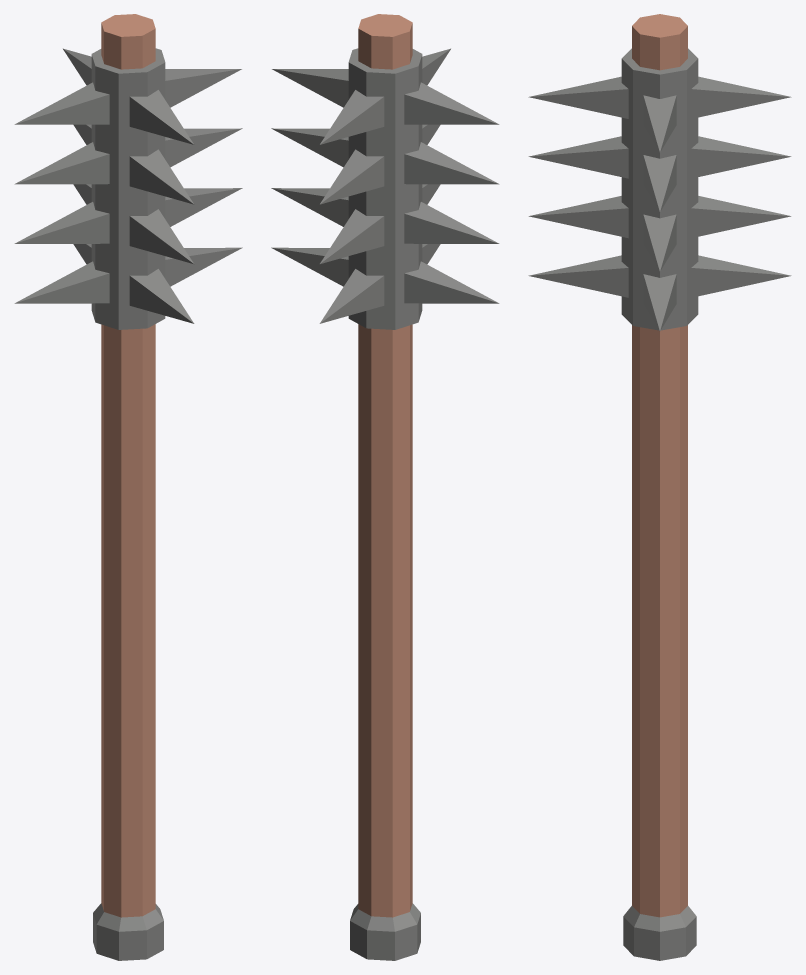
The model's file is ankers-low-poly-medieval-weapons--spiked-club.glb.
3 views of the same model, side by side, from view 1: azimuth 30°, elevation 25°; view 2: azimuth 150°, elevation 25°; view 3: azimuth 270°, elevation 25° (orthographic).
Parts seen in each view (by area): view 1: Spiked Club; view 2: Spiked Club; view 3: Spiked Club.
Part boxes in pixels (left/top/right/bottom): Spiked Club: left=14, top=14, right=242, bottom=960; Spiked Club: left=271, top=14, right=499, bottom=960; Spiked Club: left=528, top=14, right=791, bottom=960.
Bounding box in the file's own units: 0.3045 × 1.17 × 0.3045.
